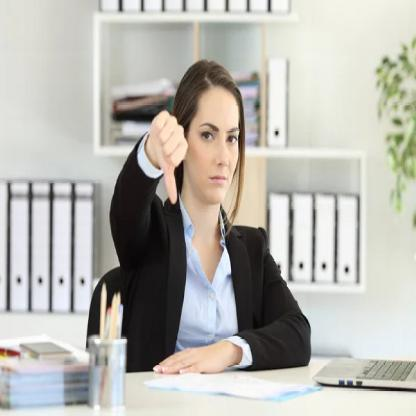thumb_down: (148, 104, 190, 208)
